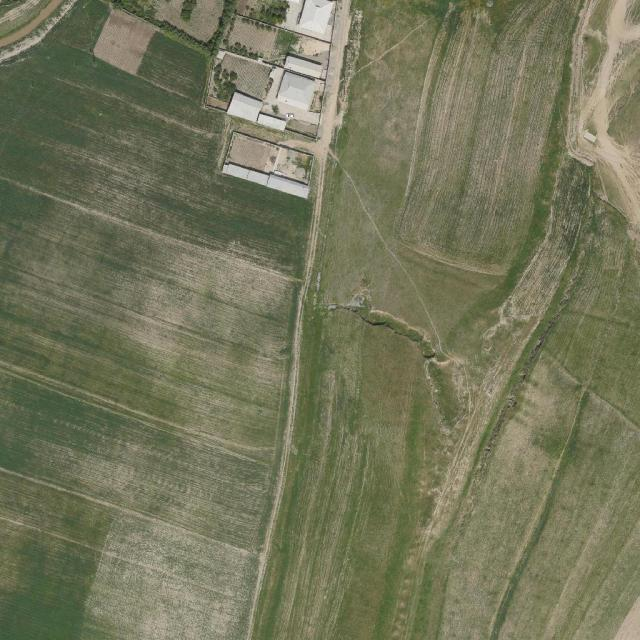agricultural_land: (0, 2, 311, 640), (90, 7, 158, 76), (225, 15, 279, 59)
building: (275, 70, 319, 112), (282, 52, 326, 81), (226, 90, 263, 122), (266, 174, 311, 198), (256, 112, 288, 131), (222, 162, 250, 181), (246, 169, 269, 186)
